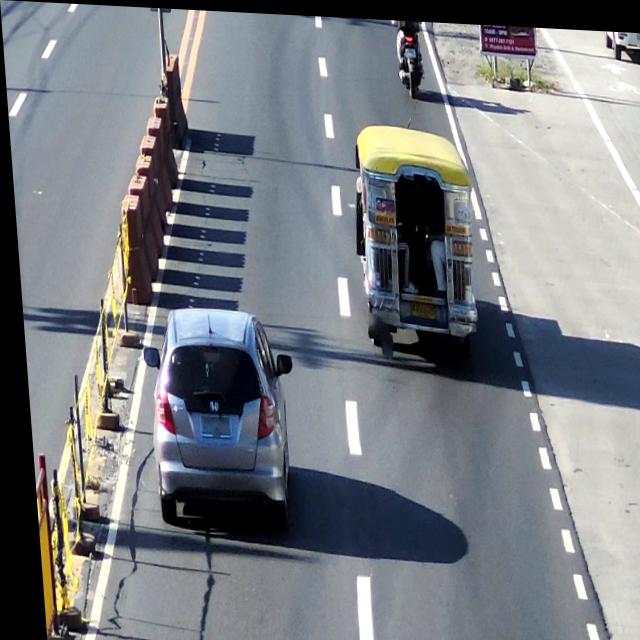Car: (143, 308, 284, 521)
Jeep: (348, 119, 478, 357)
License-Plate: (399, 290, 435, 320)
Motorcycle: (396, 16, 425, 94)
